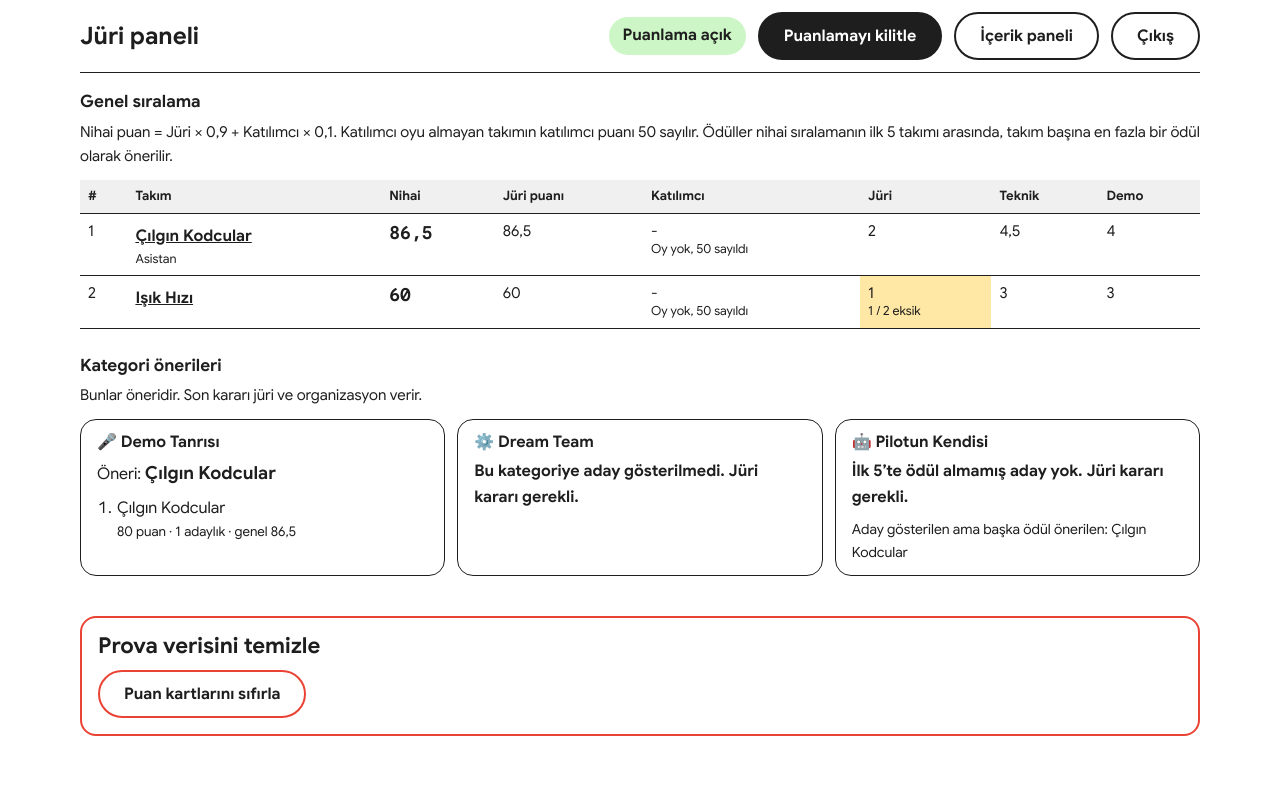
Test: puan kartlarını sıfırla › ADMIN için yazılı onay ister
(page scrolled)
Click the button "Puan kartlarını sıfırla" at (202, 694), box [98,670,306,718]
(page scrolled)
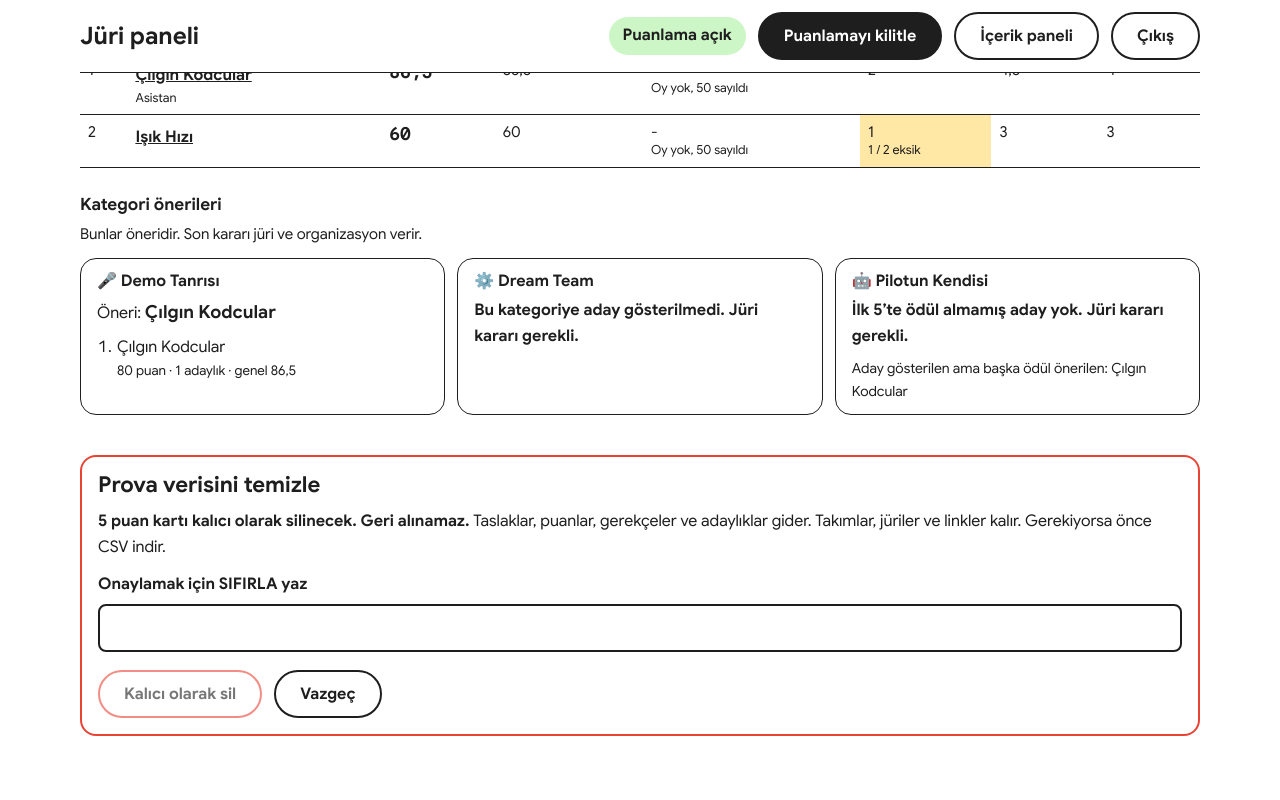
Expected: the text "5 puan kartı kalıcı olarak silinecek. Geri alınamaz." is shown, [98,511,470,531]
Expected: the button "Kalıcı olarak sil" is disabled, [98,670,262,718]
Type "SIFIR" into the field labelled "Onaylamak için SIFIRLA yaz" at (640, 628), box [98,604,1182,652]
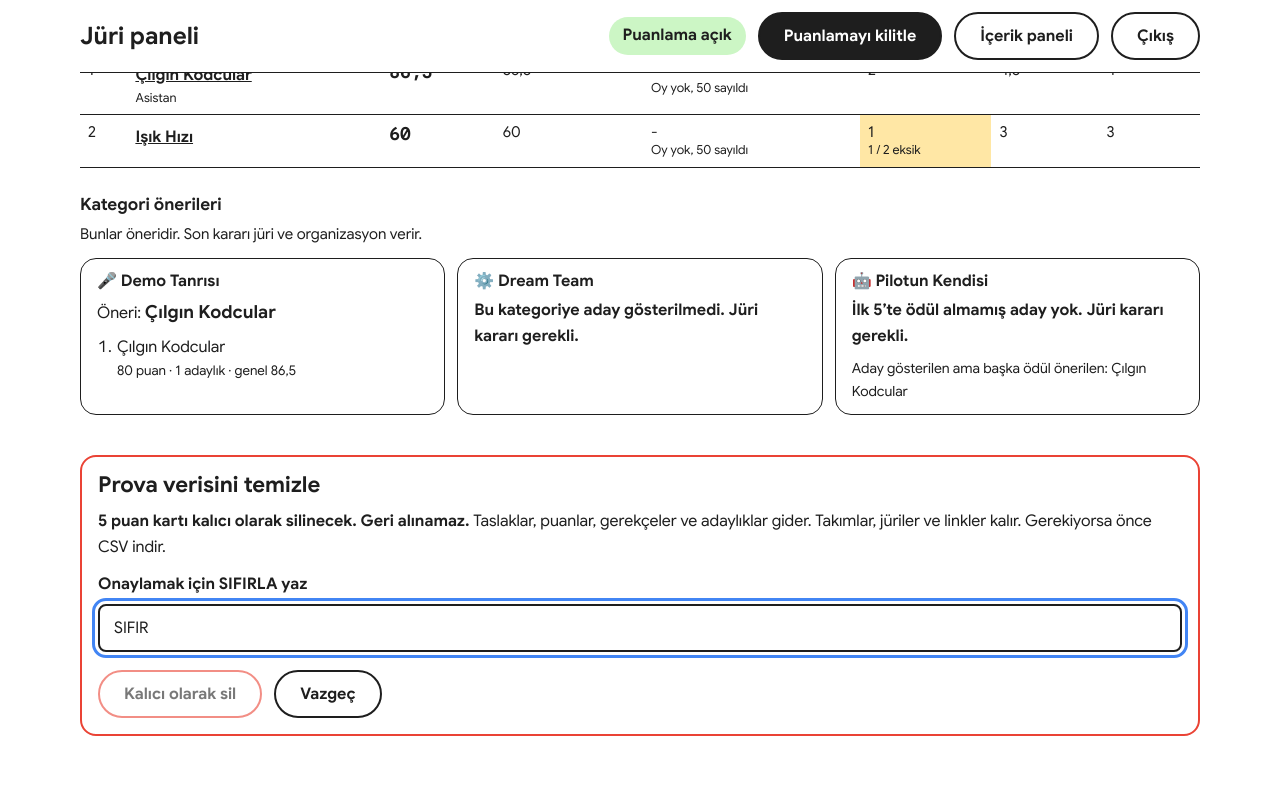
Expected: the button "Kalıcı olarak sil" is disabled, [98,670,262,718]
Type "LA" into the field labelled "Onaylamak için SIFIRLA yaz" at (640, 628), box [98,604,1182,652]
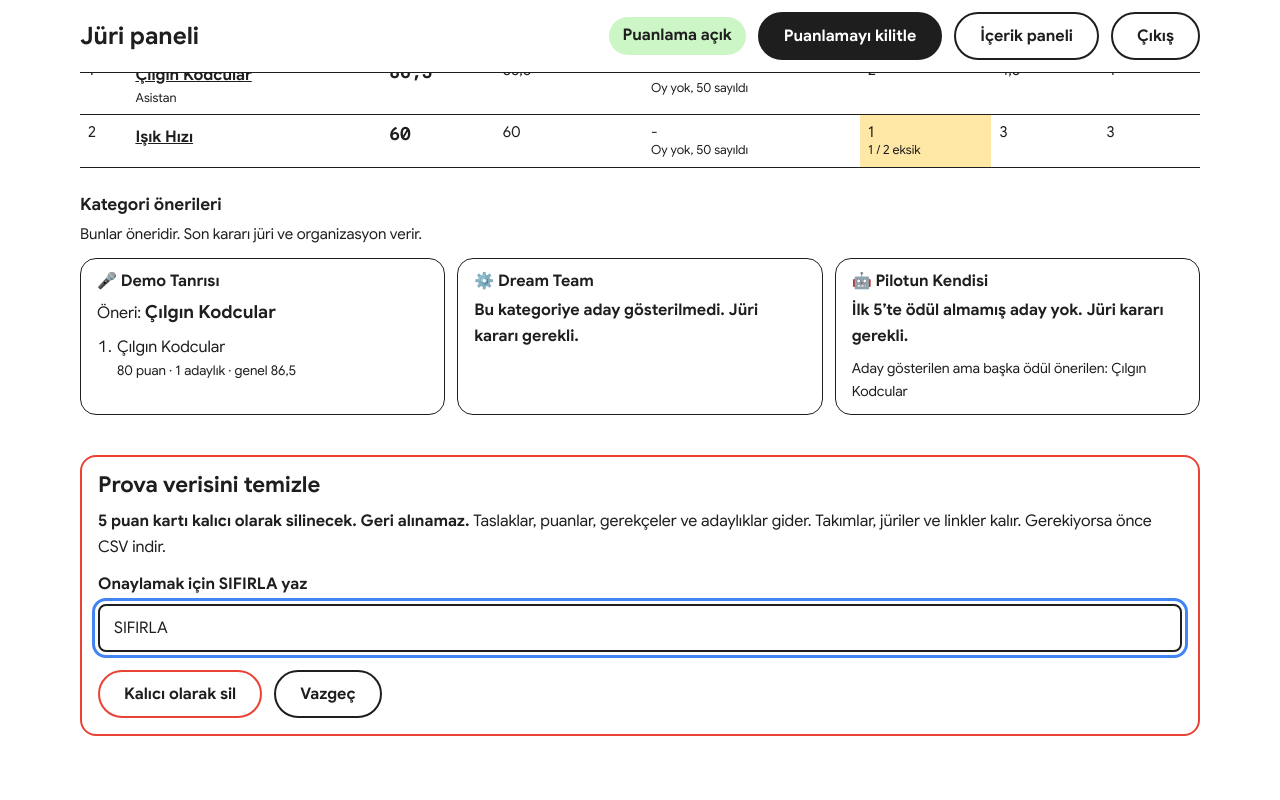
Click the button "Kalıcı olarak sil" at (180, 694), box [98,670,262,718]
(page scrolled)
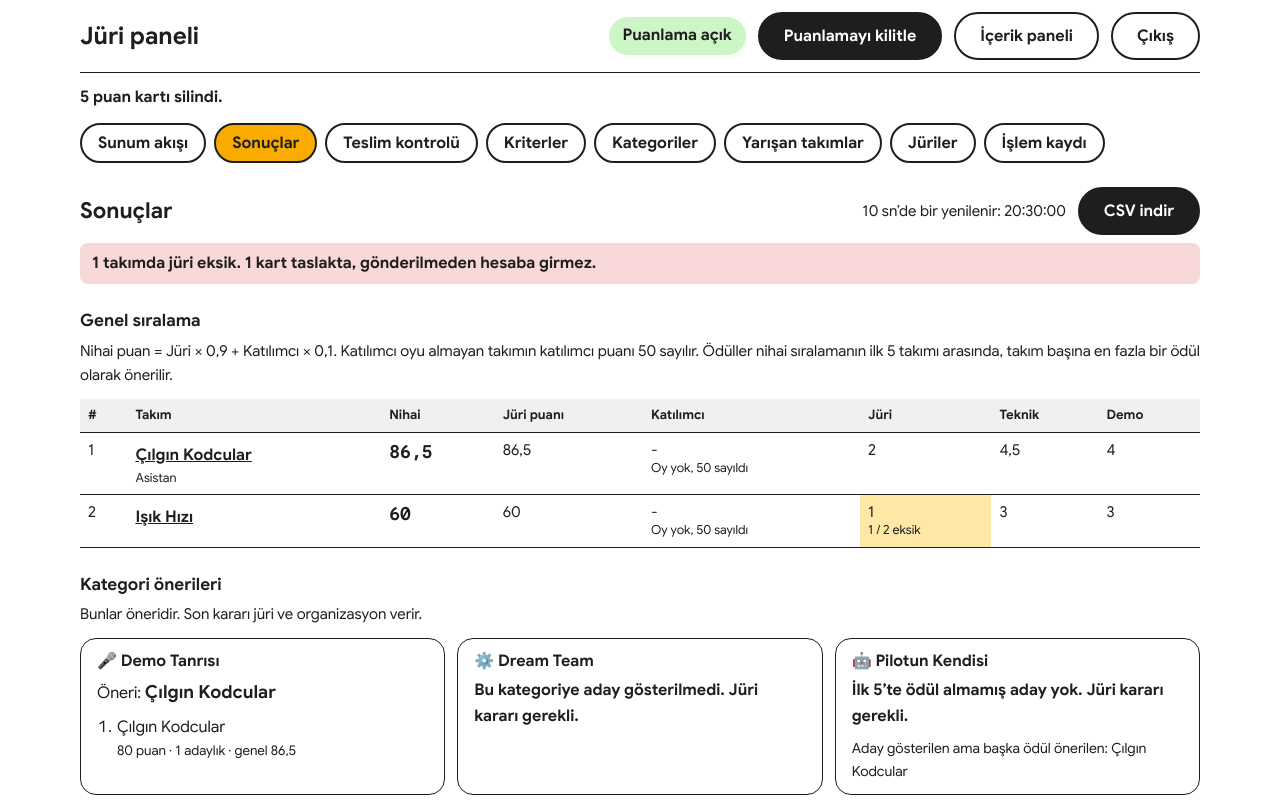
Expected: the text "5 puan kartı silindi." is shown, [80,87,222,107]
